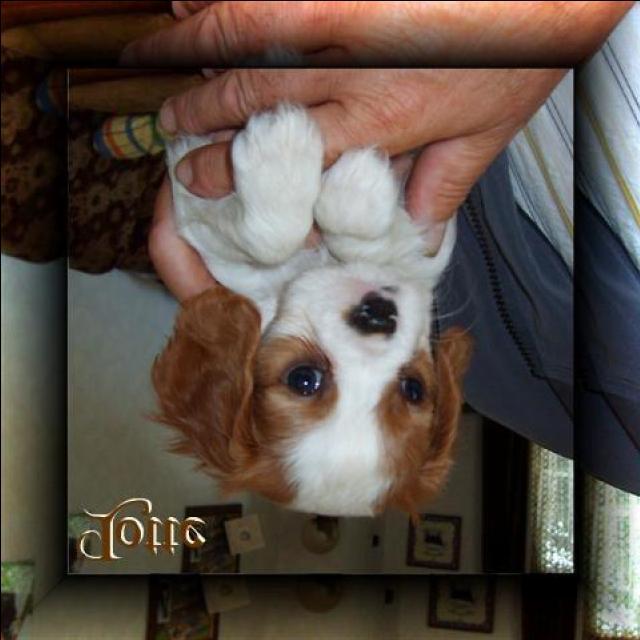blenheim_spaniel: (138, 92, 474, 522)
